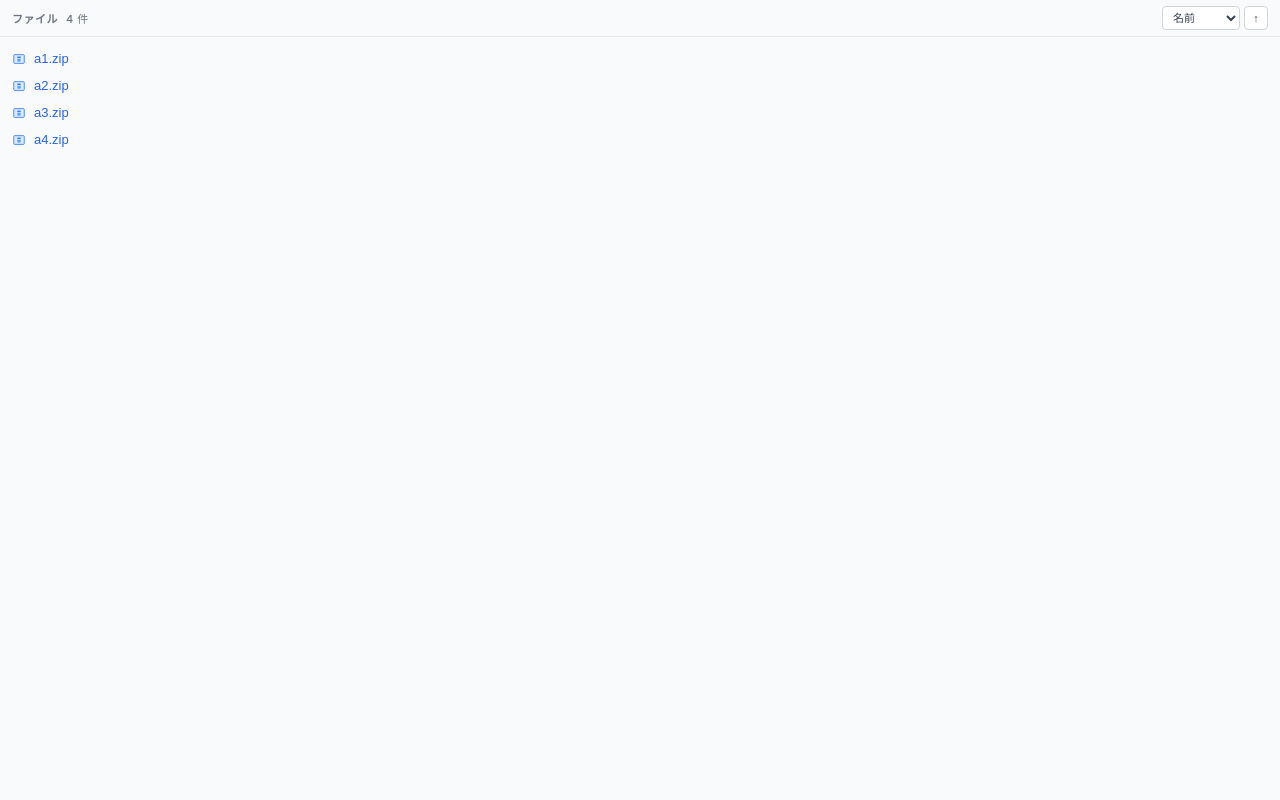
moving files to the trash › asks with Cmd+Backspace on macOS but not with Backspace alone or Ctrl+Backspace
The image size is (1280, 800).
Click the option "a1.zip": (51, 58) [0,45,1279,72]
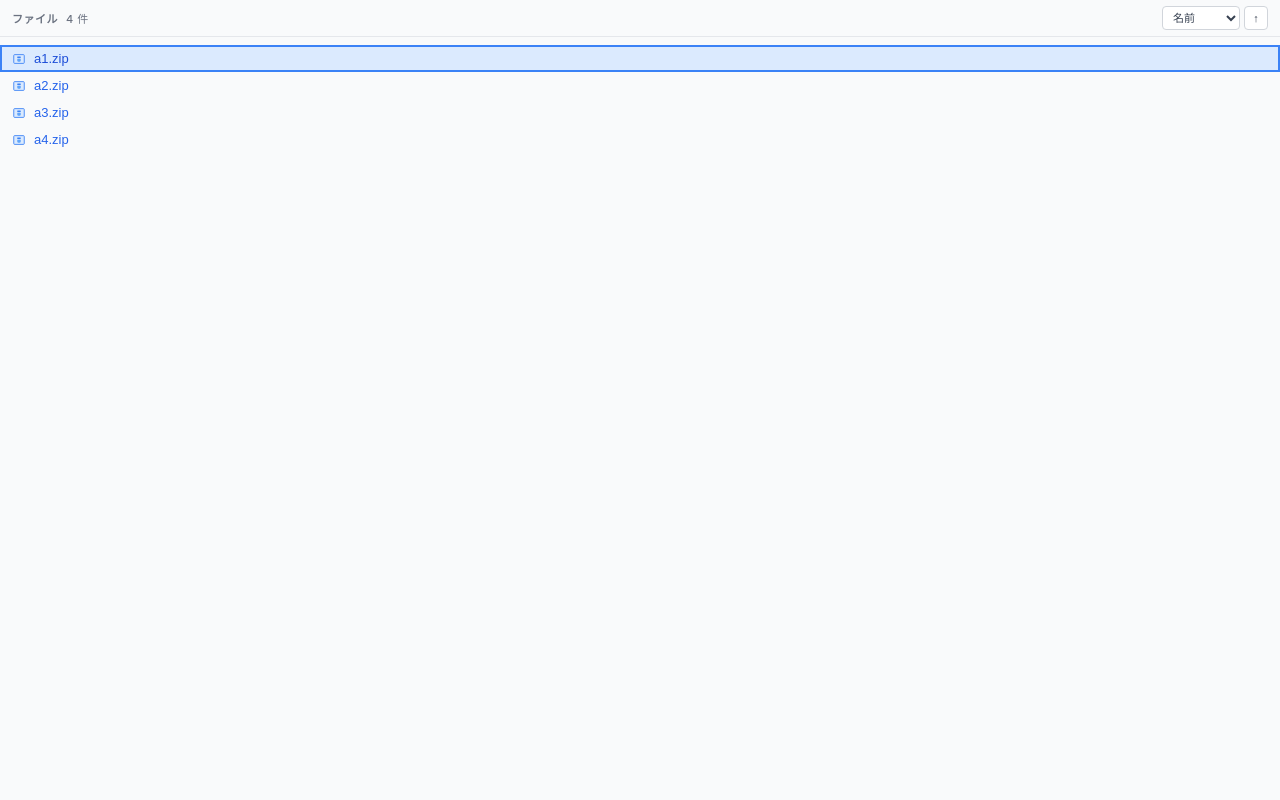
Press Backspace
Type keys "{Control>}{Backspace}{/Control}"
Type keys "{Meta>}{Backspace}{/Meta}"
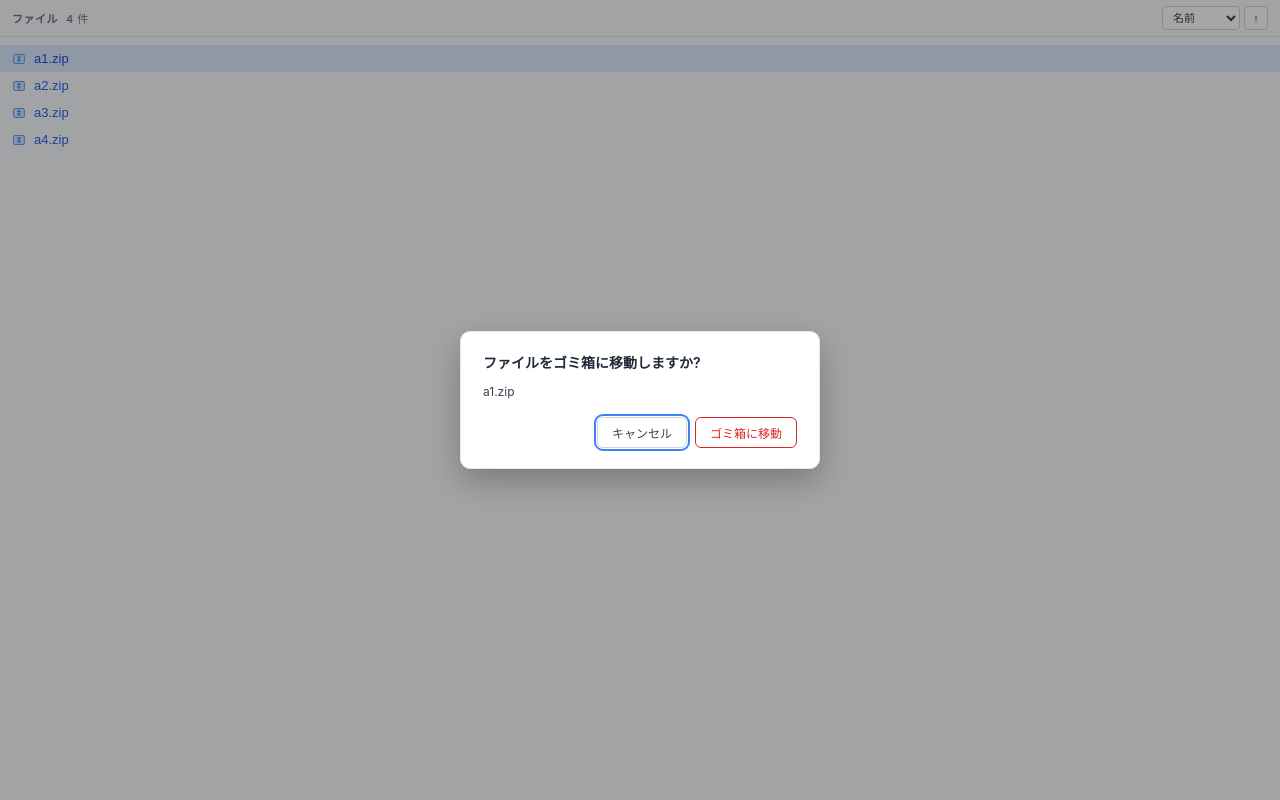
Expected: the dialog is shown, [460,331,820,469]
